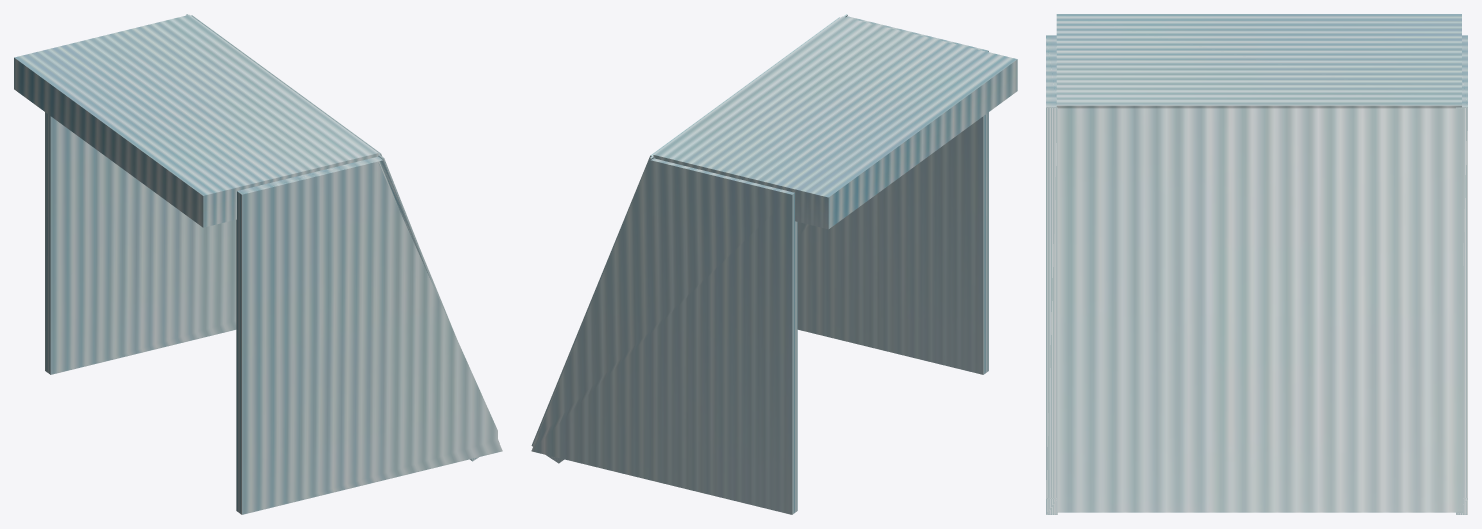
Rendered from refriCristal.obj.
The picture shows the model from 3 angles, left to right: view 1: azimuth 30°, elevation 25°; view 2: azimuth 150°, elevation 25°; view 3: azimuth 270°, elevation 25°; orthographic projection. The views are drawn at different scales.
Visible parts, largest first — view 1: pasted__pCube7 group, pCube4, pCube7, pCube3; view 2: pCube7, pCube4, pasted__pCube7 group, pCube3; view 3: pCube3, pCube4, pasted__pCube7 group, pCube7.
Part boxes in pixels (x1,y1,x2,y2): pasted__pCube7 group: [236, 154, 502, 514]; pCube4: [14, 14, 378, 227]; pCube7: [45, 14, 236, 374]; pCube3: [191, 15, 499, 461]; pCube7: [531, 156, 797, 514]; pCube4: [653, 16, 1017, 229]; pasted__pCube7 group: [797, 14, 988, 374]; pCube3: [531, 17, 839, 463]; pCube3: [1057, 108, 1462, 512]; pCube4: [1056, 14, 1461, 108]; pasted__pCube7 group: [1046, 35, 1057, 514]; pCube7: [1456, 35, 1467, 514].
Size of the model in its own units: 0.9069 by 0.9678 by 1.04.
1 material, 1 textured.
